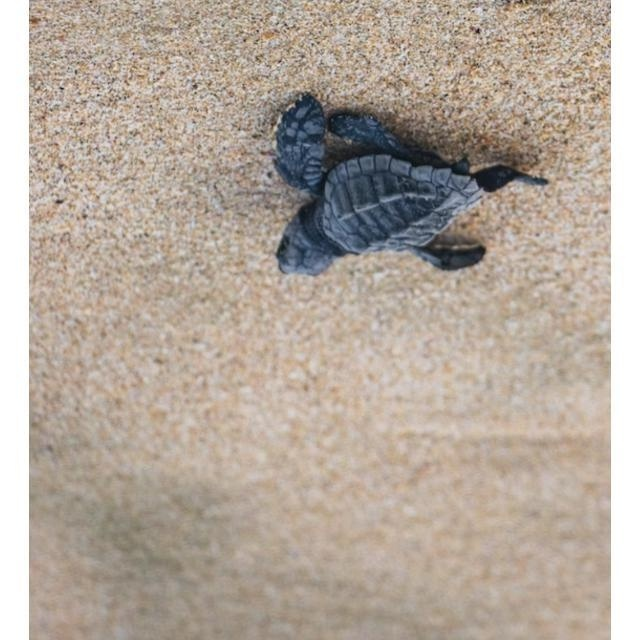turtle: (272, 93, 548, 278)
